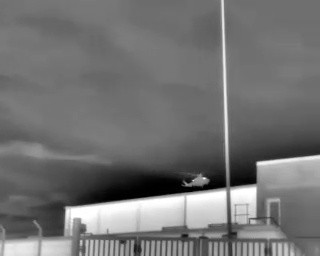HELICOPTER: (173, 167, 215, 192)
